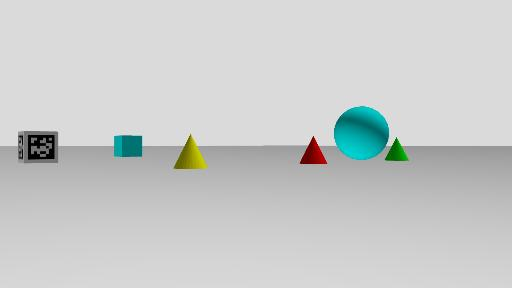green_cone: (384, 137, 410, 161)
red_cone: (298, 135, 329, 165)
yellow_cone: (173, 134, 209, 169)
